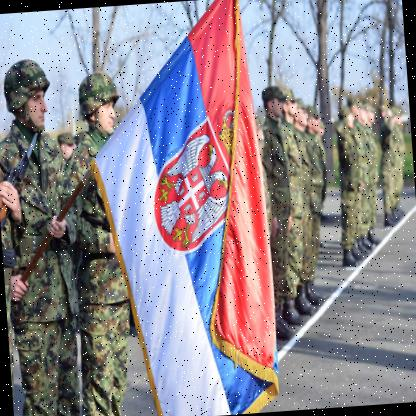rs: (79, 1, 283, 416)
